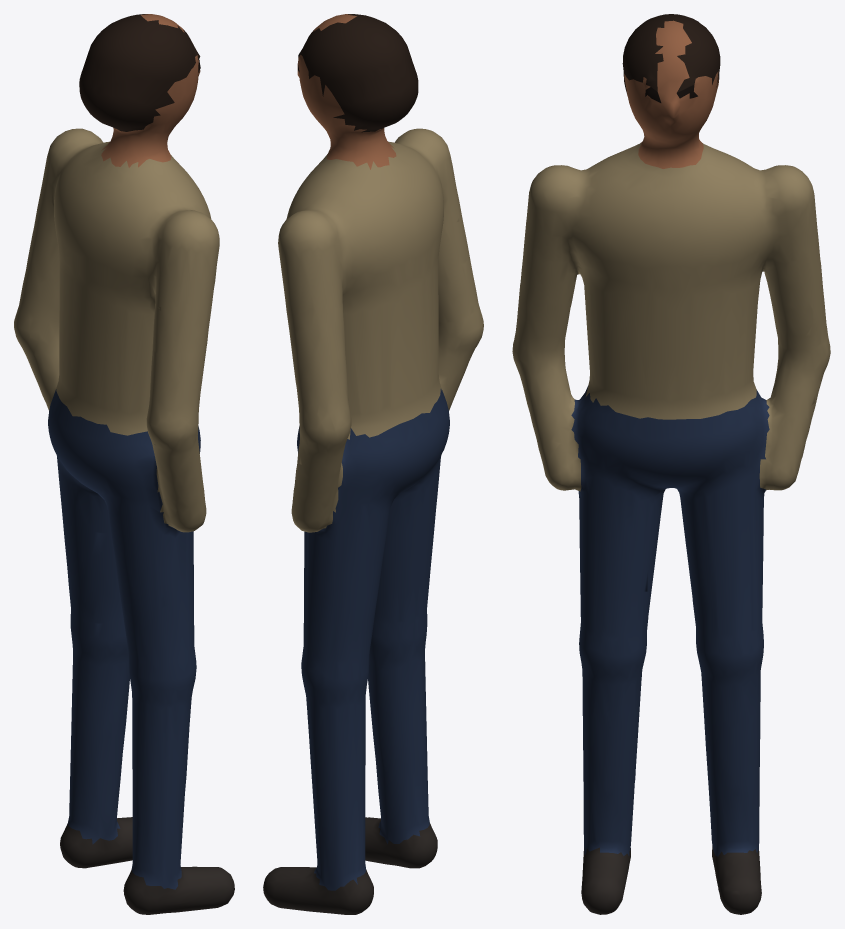
The model's file is SM_Crowd_Standing_A.glb.
3 views of the same model, side by side, from view 1: azimuth 30°, elevation 25°; view 2: azimuth 150°, elevation 25°; view 3: azimuth 270°, elevation 25° (orthographic).
Parts seen in each view (by area): view 1: SM_Crowd_Standing_A; view 2: SM_Crowd_Standing_A; view 3: SM_Crowd_Standing_A.
Boxes of the visible parts, bbox=[...] form: SM_Crowd_Standing_A: bbox=[14, 14, 234, 914]; SM_Crowd_Standing_A: bbox=[263, 14, 483, 914]; SM_Crowd_Standing_A: bbox=[512, 14, 830, 914].
Size of the model in its own units: 0.2926 by 1.81 by 0.5967.
